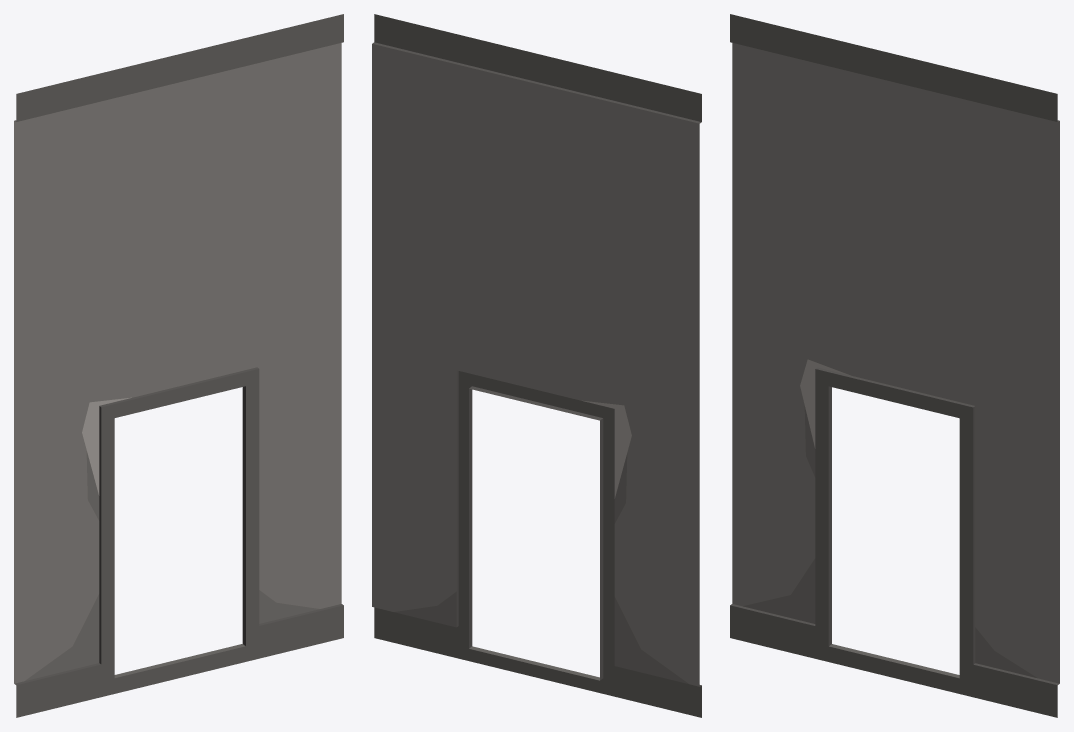
File: AI_Env_Wall_Factory_Doorway.fbx
3 renders of one model, left to right at view 1: azimuth 30°, elevation 25°; view 2: azimuth 150°, elevation 25°; view 3: azimuth 330°, elevation 25°, orthographic.
Visible parts, largest first — view 1: AI_Env_Wall_Factory_Doorway; view 2: AI_Env_Wall_Factory_Doorway; view 3: AI_Env_Wall_Factory_Doorway.
Boxes of the visible parts, x1,y1,x2,y2 form: AI_Env_Wall_Factory_Doorway: (14,14,343,717); AI_Env_Wall_Factory_Doorway: (372,14,701,717); AI_Env_Wall_Factory_Doorway: (730,14,1059,717).
Bounding box in the file's own units: 5 × 9.1 × 0.0885.
